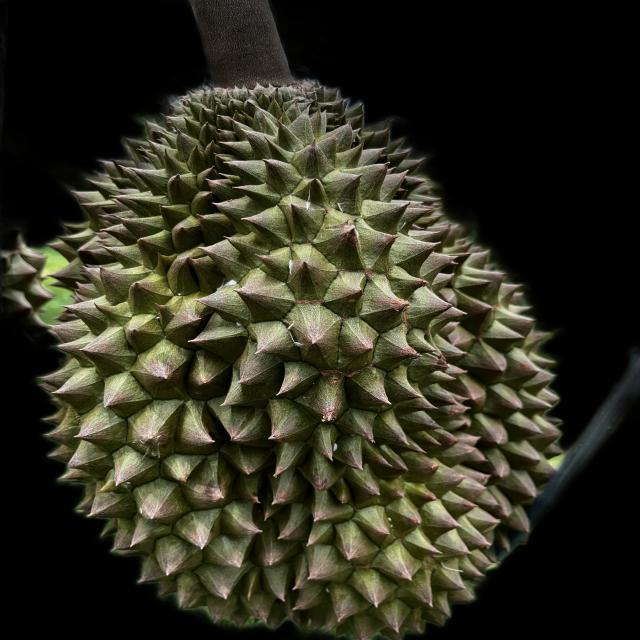immature: (35, 86, 578, 634)
